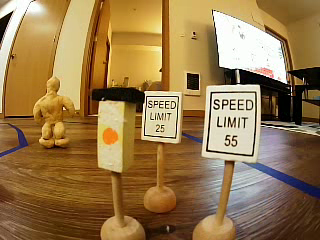person: (28, 68, 77, 152)
speed limit 25: (144, 80, 183, 143)
speed limit 55: (200, 77, 264, 169)
yellow traffic light: (90, 81, 139, 173)
